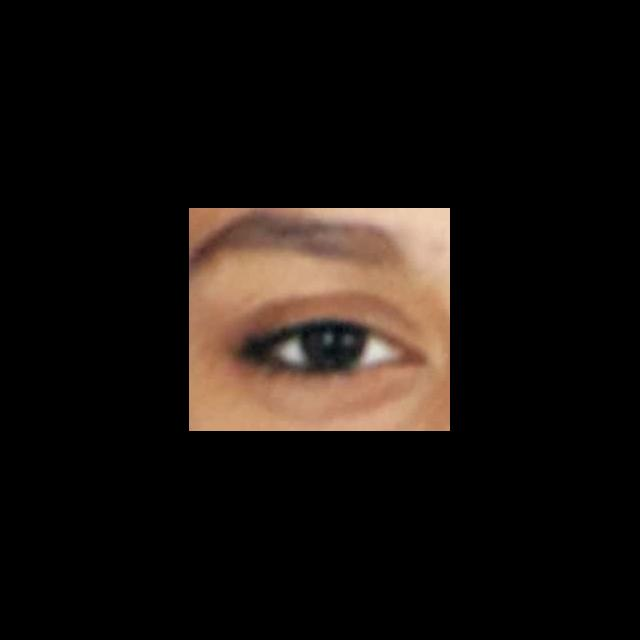eye: (266, 324, 404, 371)
iris: (305, 325, 364, 367)
